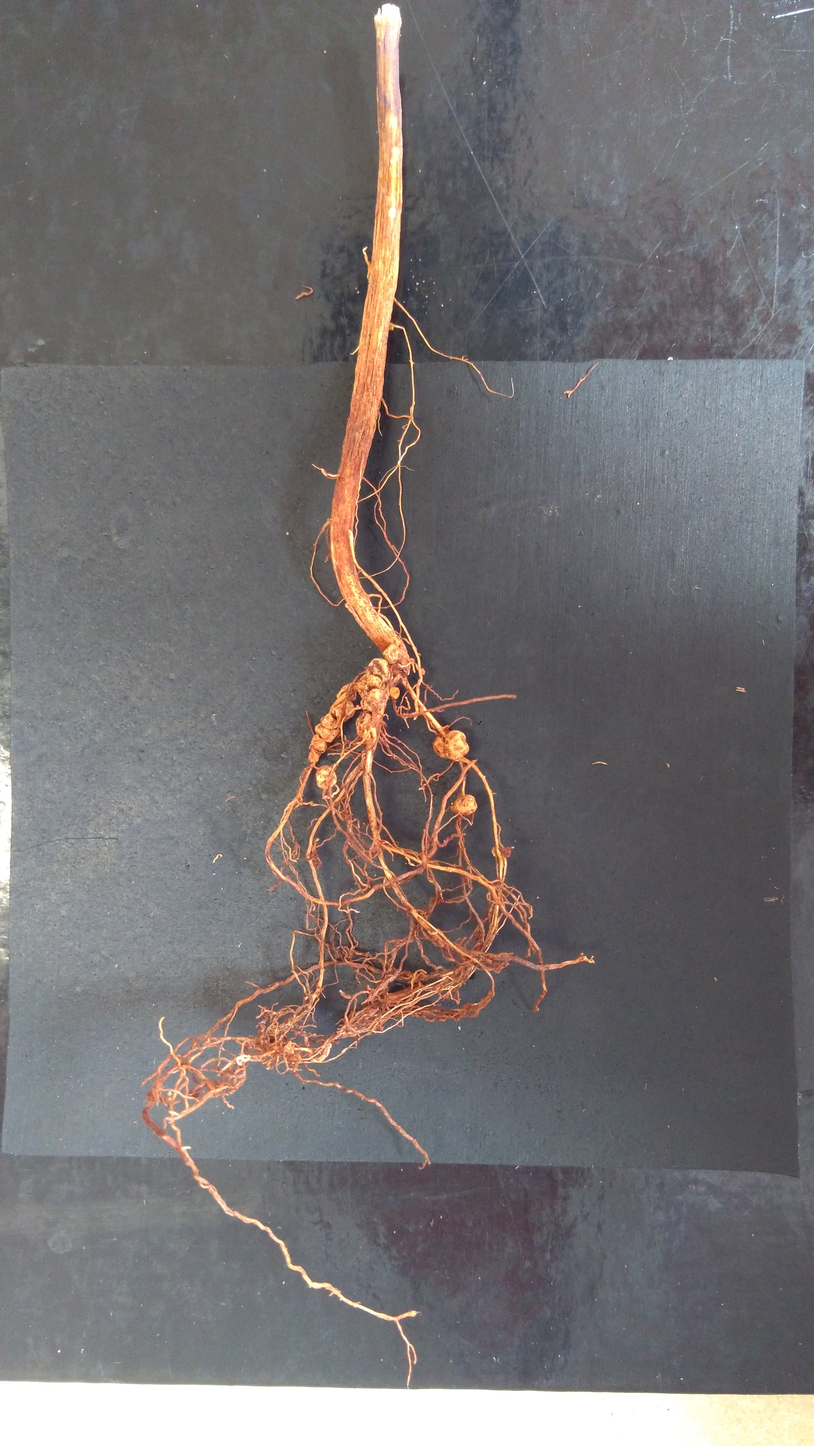nodule: (356, 710, 376, 749), (444, 730, 469, 761), (368, 657, 393, 682), (451, 794, 477, 815), (332, 700, 355, 723), (316, 765, 337, 790), (315, 724, 341, 742), (365, 984, 388, 1004), (312, 1042, 331, 1063), (336, 682, 356, 701), (432, 736, 449, 758), (309, 734, 327, 754), (383, 645, 401, 664), (321, 713, 341, 730), (356, 674, 369, 698), (278, 1041, 295, 1057), (368, 689, 381, 707), (493, 847, 514, 858), (265, 1022, 280, 1037), (367, 675, 382, 689), (390, 662, 404, 677), (308, 749, 320, 764), (236, 1054, 251, 1066), (360, 698, 372, 711), (390, 687, 400, 700), (420, 668, 425, 675), (389, 326, 394, 331)
